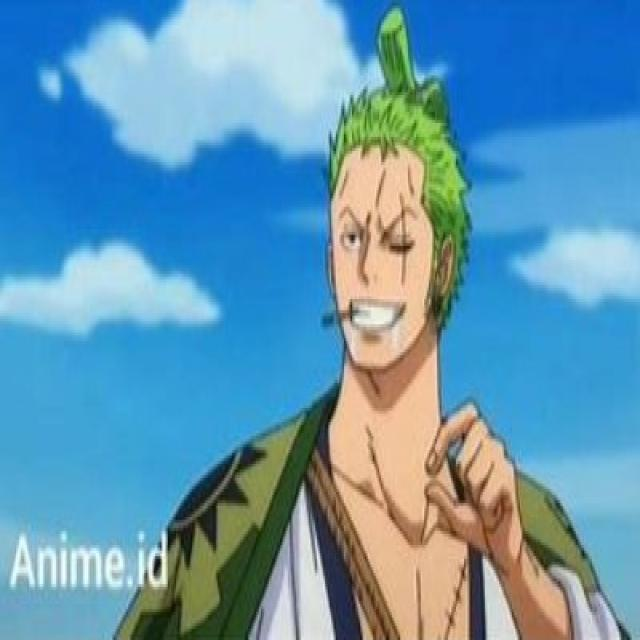Zoro: (120, 8, 626, 640)
